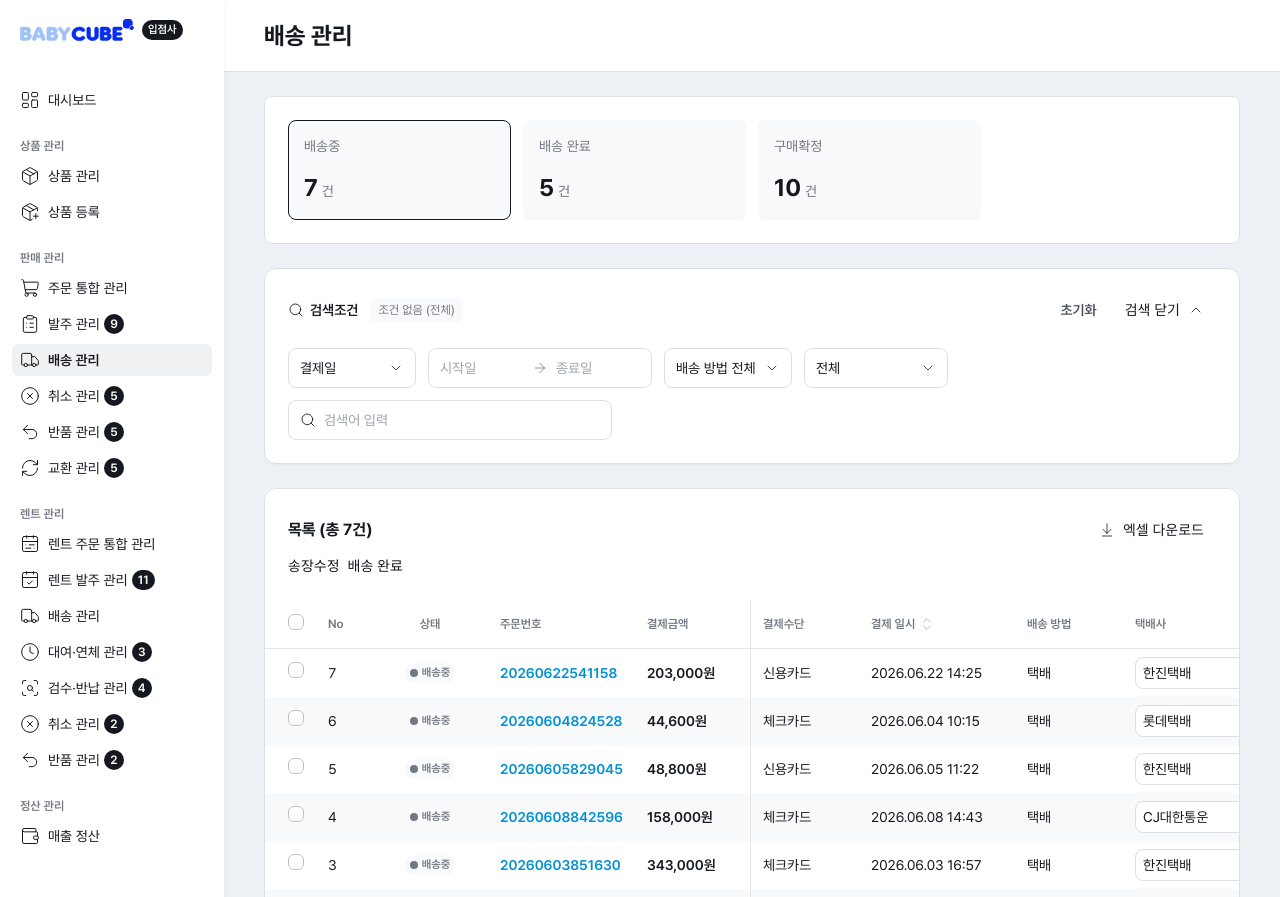
Test: ShippingPage — 배송 관리 › 머리 [송장수정] — 0건이면 막고, 고르면 송장 있는 건수로 알림(원본 `rentInvoiceEditBulk`)
Click the button "송장수정". click: x=314, y=566
box: [288,556,340,576]
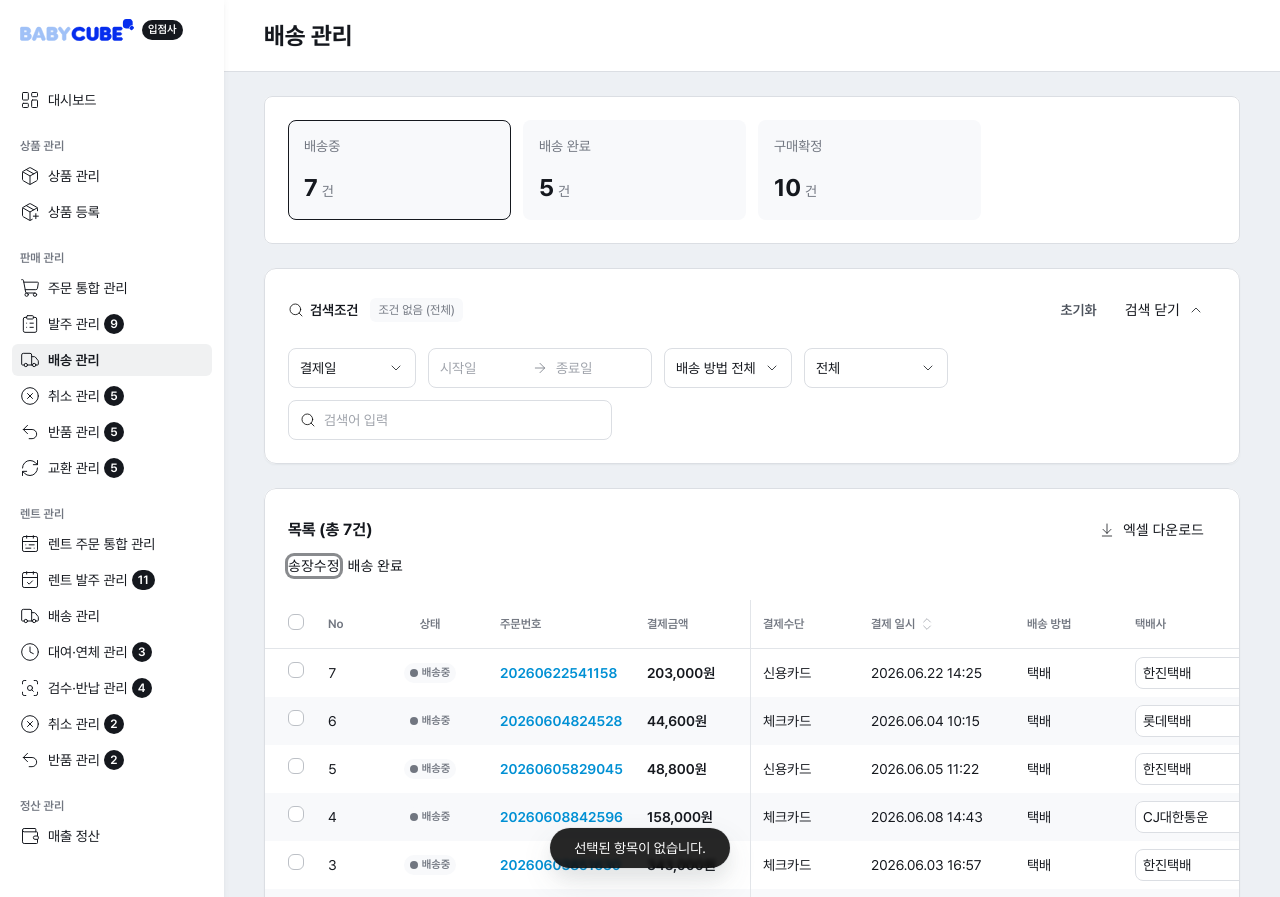
Check: the text "선택된 항목이 없습니다." is shown, box [550,828,730,868]
Click the checkbox named "20260622541158 베이비큐브 프리미엄 모유저장팩 세트 선택". click: x=296, y=670
box: [288,662,304,678]
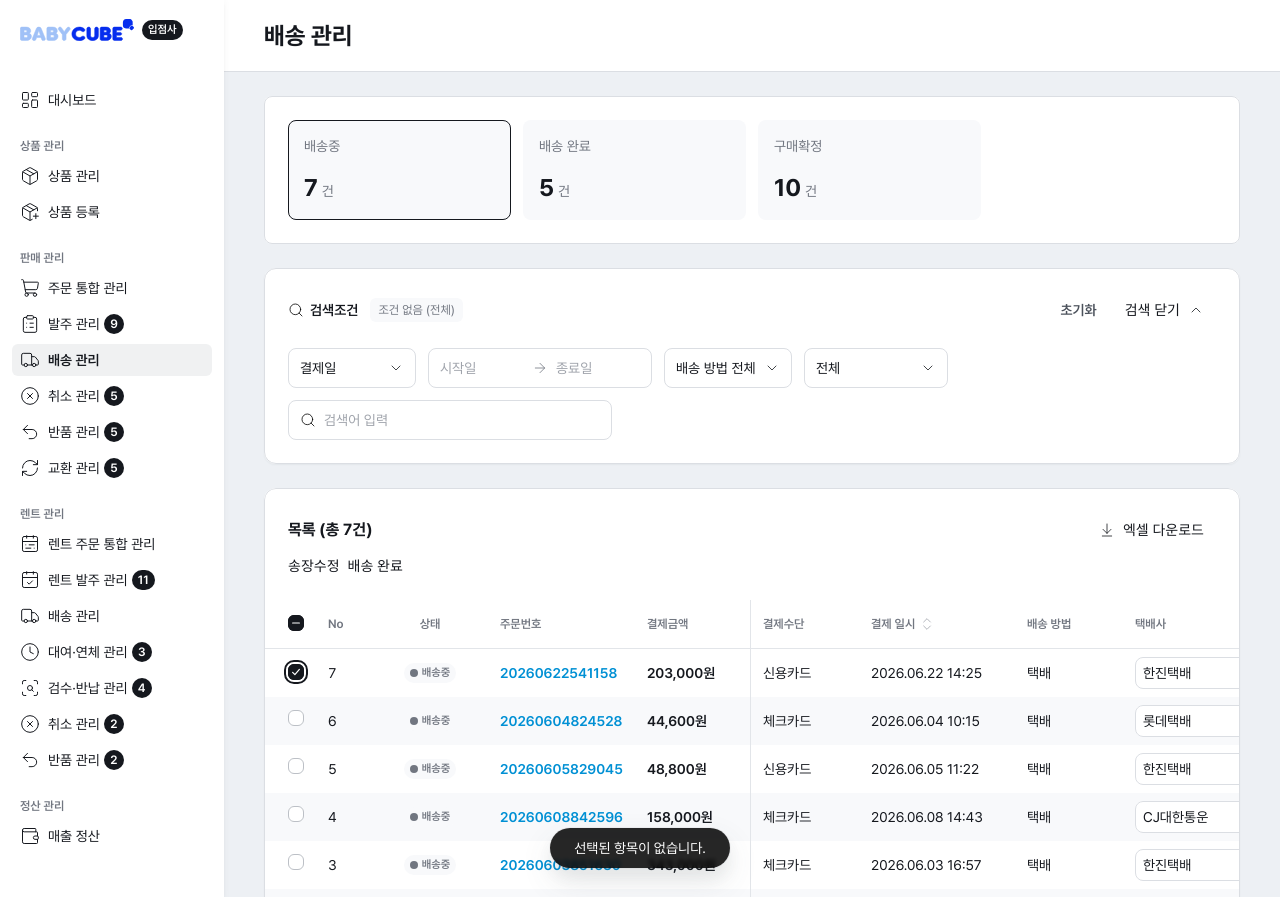
Click the checkbox named "20260604824528 흡착 식판 세트 선택". click: x=296, y=718
box: [288,710,304,726]
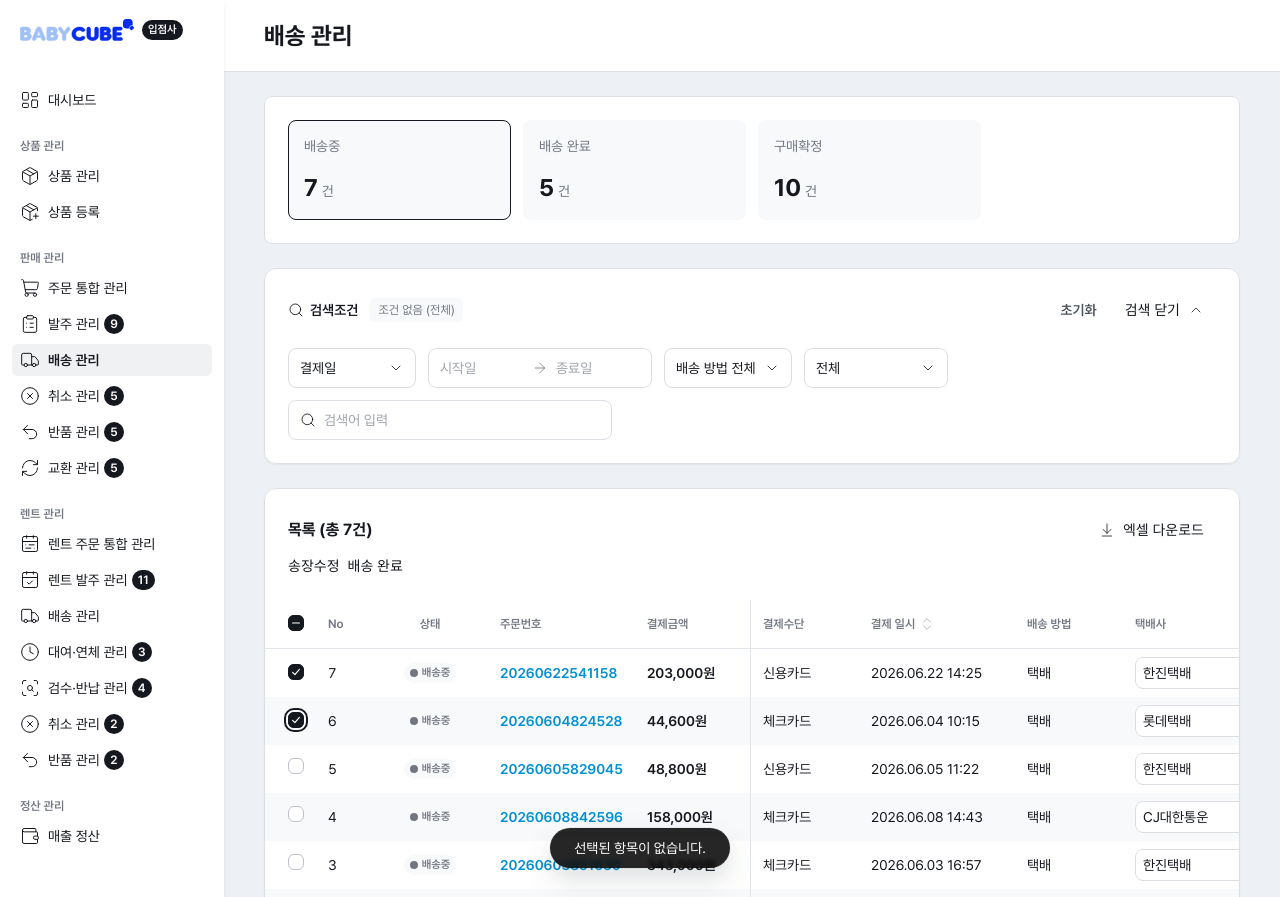
Click the button "송장수정". click: x=314, y=566
box: [288,556,340,576]
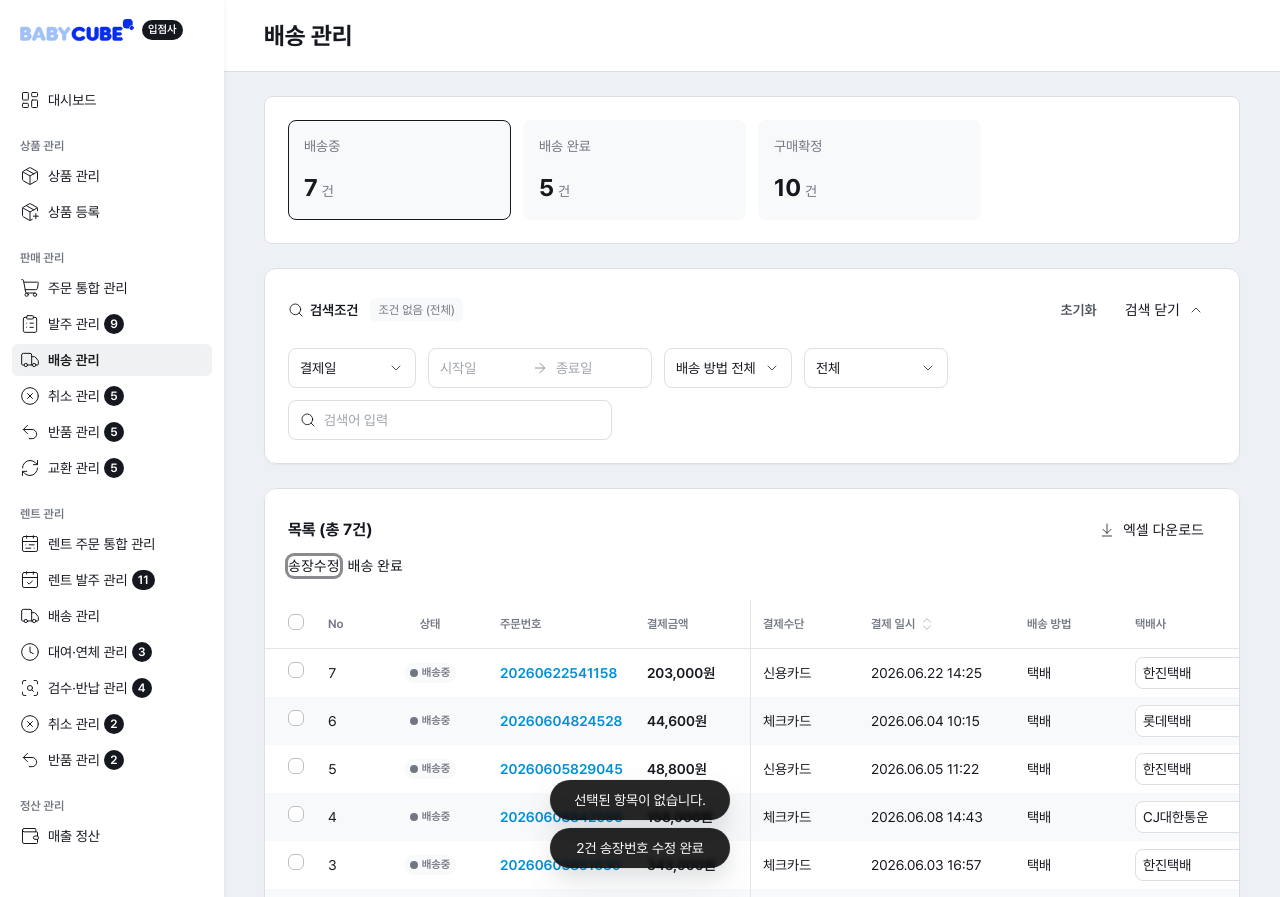
Check: the text "2건 송장번호 수정 완료" is shown, box [550,828,730,868]
